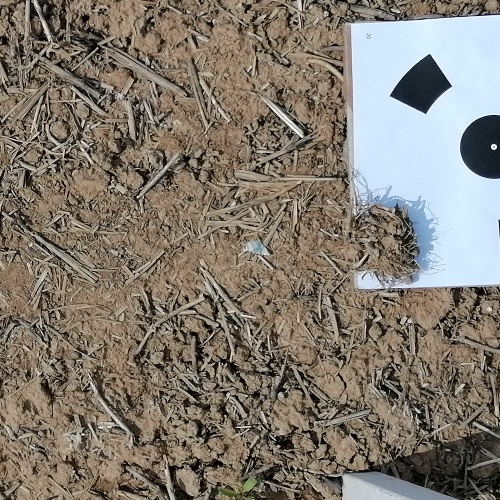beet: (216, 479, 259, 500)
